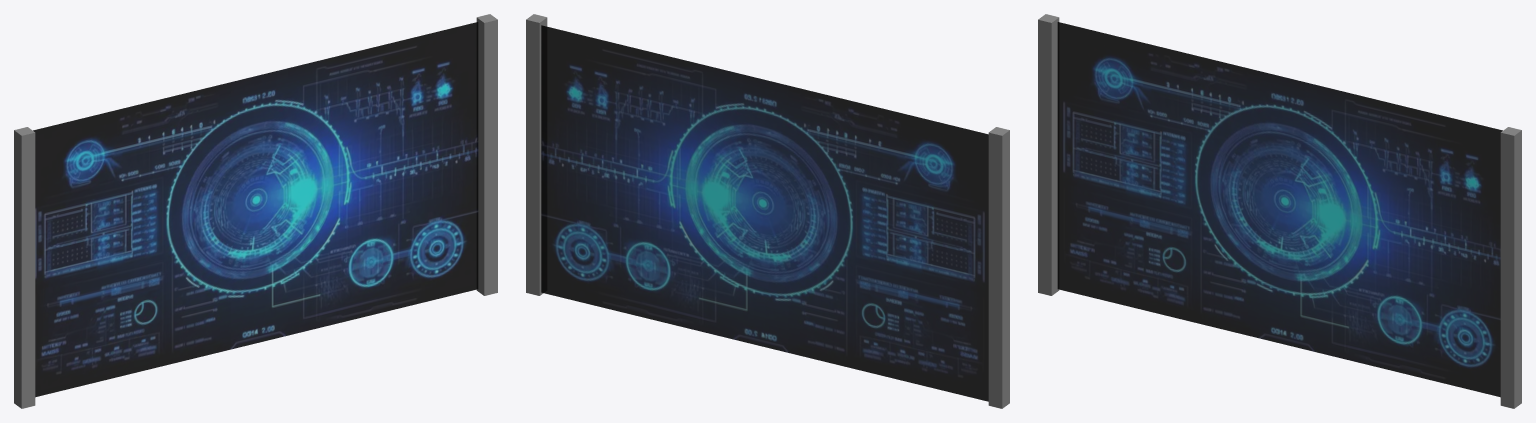
Rendered from screen.glb.
3 views of the same model, side by side, from view 1: azimuth 30°, elevation 25°; view 2: azimuth 150°, elevation 25°; view 3: azimuth 330°, elevation 25° (orthographic).
Visible parts, largest first — view 1: Object_7, Object_9, Object_5; view 2: Object_7, Object_9, Object_5; view 3: Object_7, Object_5, Object_9.
Boxes of the visible parts, x1,y1,x2,y2 form: Object_7: [33, 22, 478, 397]; Object_9: [14, 127, 35, 408]; Object_5: [476, 14, 497, 295]; Object_7: [541, 25, 988, 401]; Object_9: [988, 127, 1009, 408]; Object_5: [526, 14, 547, 295]; Object_7: [1057, 22, 1502, 397]; Object_5: [1500, 127, 1521, 408]; Object_9: [1038, 14, 1059, 295].
Bounding box in the file's own units: 0.8853 × 0.4852 × 0.0251.
2 materials, 2 textured.
